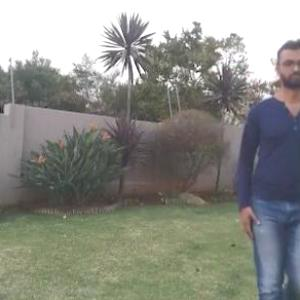follow: (241, 54, 299, 299)
